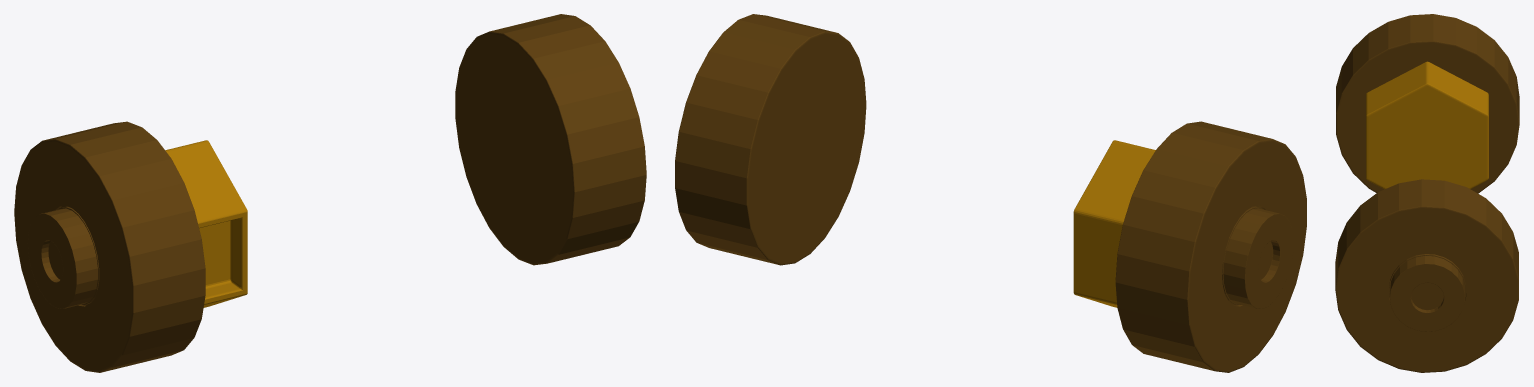
Rendered from Cadeado-numeros.fbx.
3 views of the same model, side by side, from view 1: azimuth 30°, elevation 25°; view 2: azimuth 150°, elevation 25°; view 3: azimuth 270°, elevation 25° (orthographic). The views are drawn at different scales.
Visible parts, largest first — view 1: LATERAIS, Cylinder, NUM1; view 2: LATERAIS, Cylinder, NUM1; view 3: LATERAIS, Cylinder, NUM1.
Boxes of the visible parts, x1,y1,x2,y2 form: LATERAIS: (455, 14, 646, 265); Cylinder: (14, 121, 205, 372); NUM1: (165, 140, 247, 307); LATERAIS: (675, 14, 866, 265); Cylinder: (1115, 121, 1306, 372); NUM1: (1073, 140, 1155, 307); LATERAIS: (1335, 179, 1518, 372); Cylinder: (1336, 14, 1519, 193); NUM1: (1366, 61, 1488, 189).
Size of the model in its own units: 1203 by 448 by 449.
